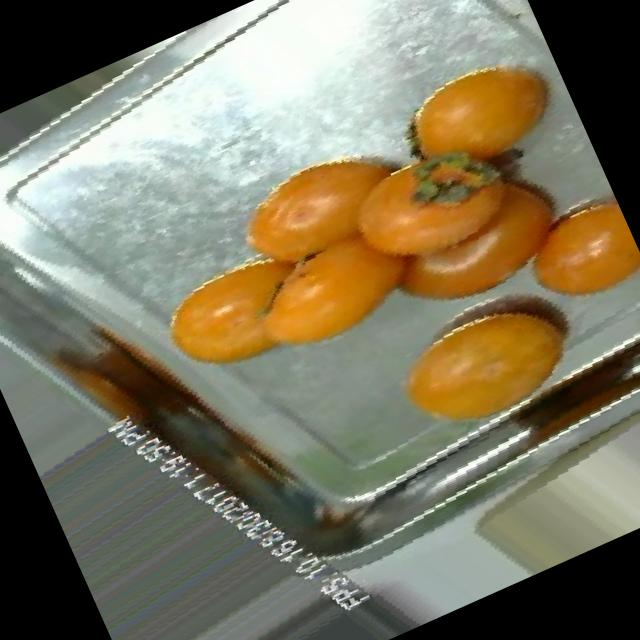Fruit: (362, 17, 592, 220), (365, 266, 597, 458), (129, 216, 342, 410), (495, 177, 640, 333)
